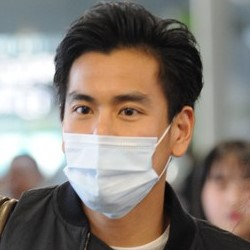mask: (54, 125, 175, 220)
